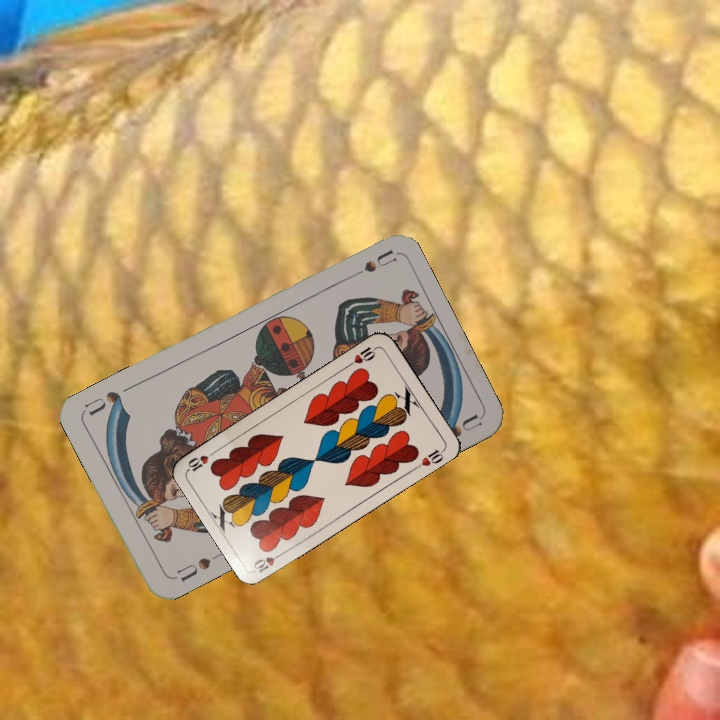H10: (249, 547, 287, 575), (343, 342, 380, 369)
SU: (340, 246, 397, 284), (168, 549, 223, 584)
